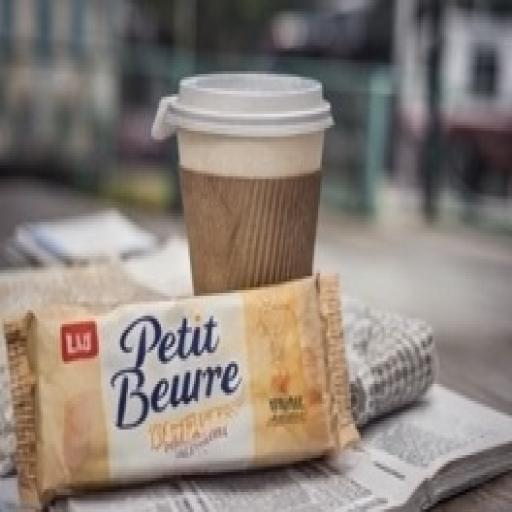petit_beurre: (10, 281, 381, 487)
